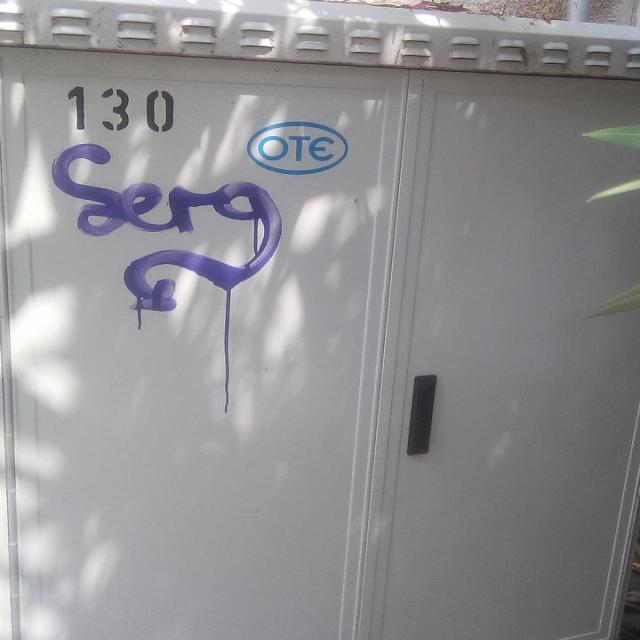nonspitting: (50, 142, 286, 316)
